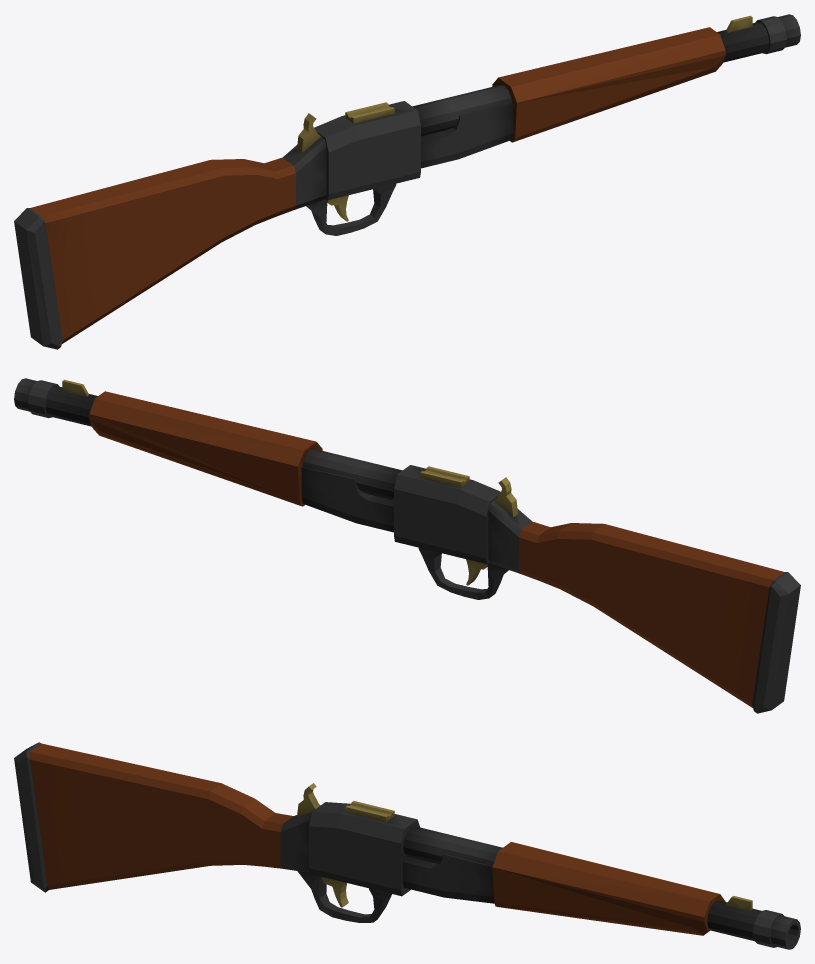
Rendered from v-carabine-shotgun-short.glb.
3 views of the same model, one above another, from view 1: azimuth 30°, elevation 25°; view 2: azimuth 150°, elevation 25°; view 3: azimuth 330°, elevation 25° (orthographic).
Visible parts, largest first — view 1: stock (×2), receiver (×3), front (×2), grip; view 2: stock (×2), receiver (×3), front (×2), grip; view 3: stock (×2), receiver (×3), front (×2), grip (×2).
Part boxes in pixels (bbox=[...]): stock (×2): bbox=[14, 158, 294, 349]; receiver (×3): bbox=[281, 66, 564, 210]; front (×2): bbox=[547, 14, 800, 125]; grip: bbox=[306, 184, 395, 235]; stock (×2): bbox=[520, 522, 800, 713]; receiver (×3): bbox=[250, 430, 533, 574]; front (×2): bbox=[14, 378, 267, 489]; grip: bbox=[419, 548, 508, 599]; stock (×2): bbox=[14, 742, 291, 892]; receiver (×3): bbox=[278, 783, 557, 913]; front (×2): bbox=[540, 853, 800, 949]; grip (×2): bbox=[296, 870, 391, 922].
Size of the model in its own units: 0.86 by 0.1775 by 0.0476.
